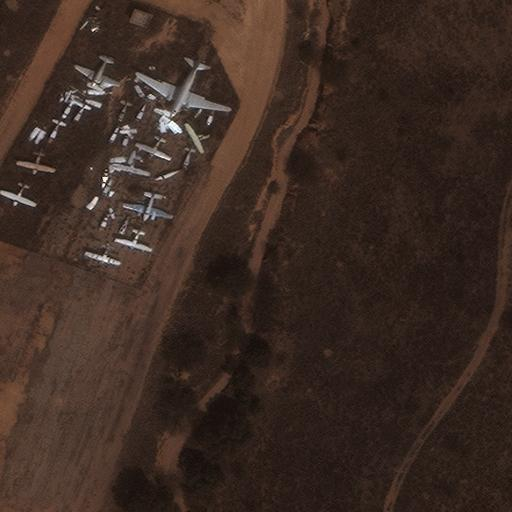Military Transport: (135, 58, 230, 117)
Small Civil Transport: (72, 55, 119, 87), (121, 192, 172, 221), (16, 148, 54, 174), (135, 136, 170, 161), (113, 230, 150, 252), (0, 183, 35, 206), (84, 243, 119, 265)
